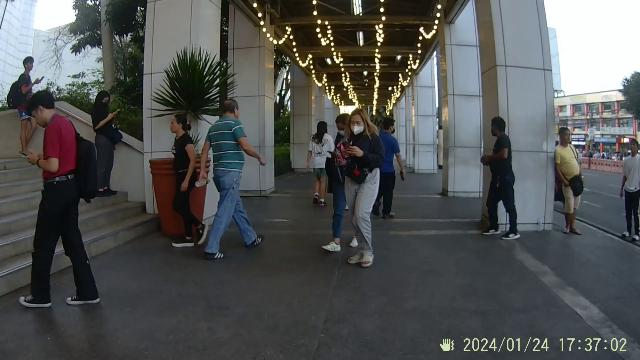potted_plant: (147, 73, 217, 237)
